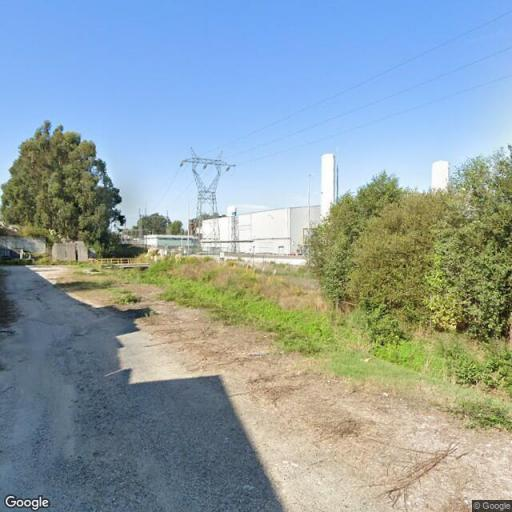wt_5: (175, 147, 238, 258)
